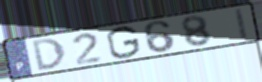2: (70, 31, 105, 66)
6: (142, 19, 178, 54)
8: (180, 13, 213, 48)
D: (30, 37, 68, 73)
G: (105, 25, 143, 61)
I: (233, 7, 250, 41)
